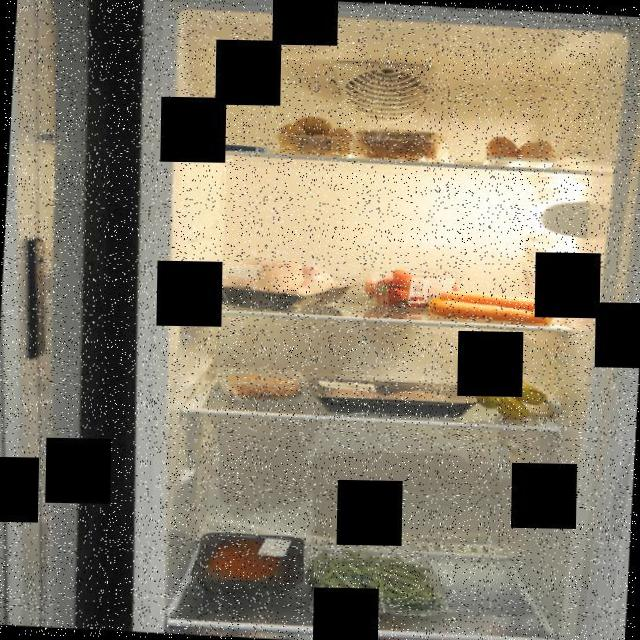Carne pollo: (182, 246, 352, 313), (306, 376, 480, 420)
Carne vacuno: (188, 528, 305, 598)
Gambas/Langostinos: (220, 370, 306, 402)
Huevos: (481, 134, 557, 166)
Patata: (276, 112, 356, 156)
Plátano: (458, 368, 554, 422)
Zanahoria: (417, 285, 573, 326)
